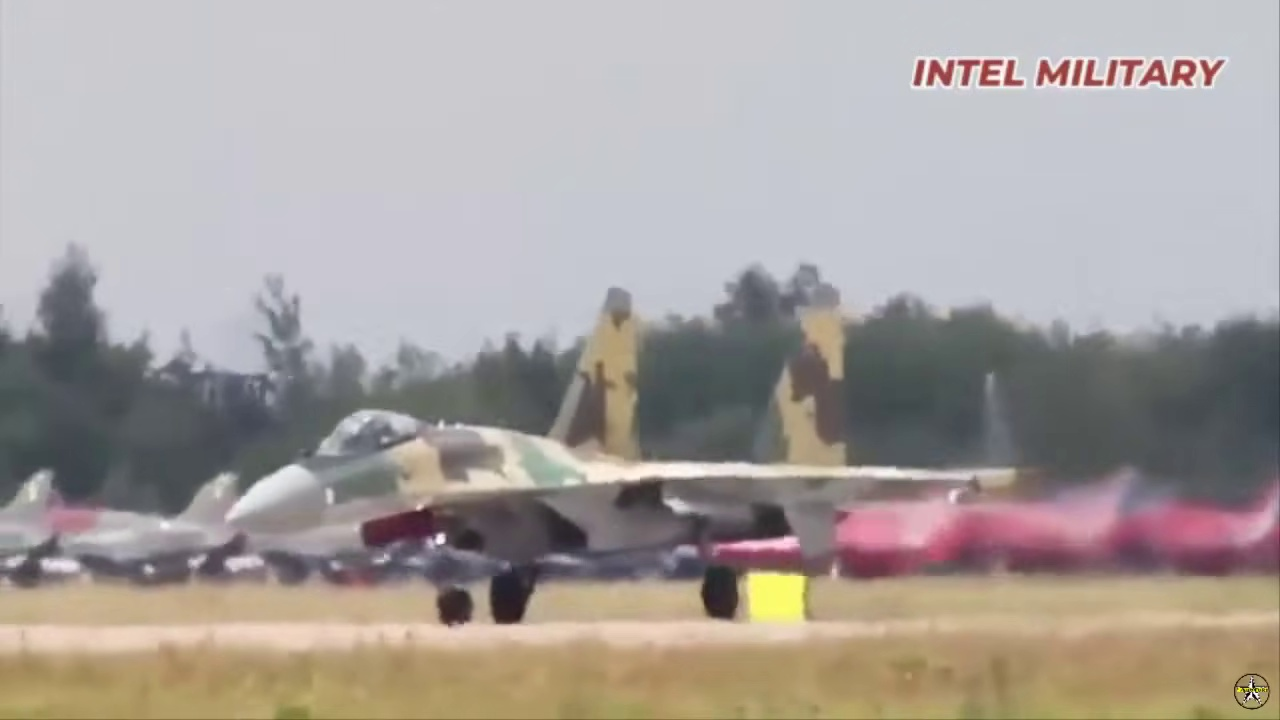Su35: (217, 260, 1040, 635)
